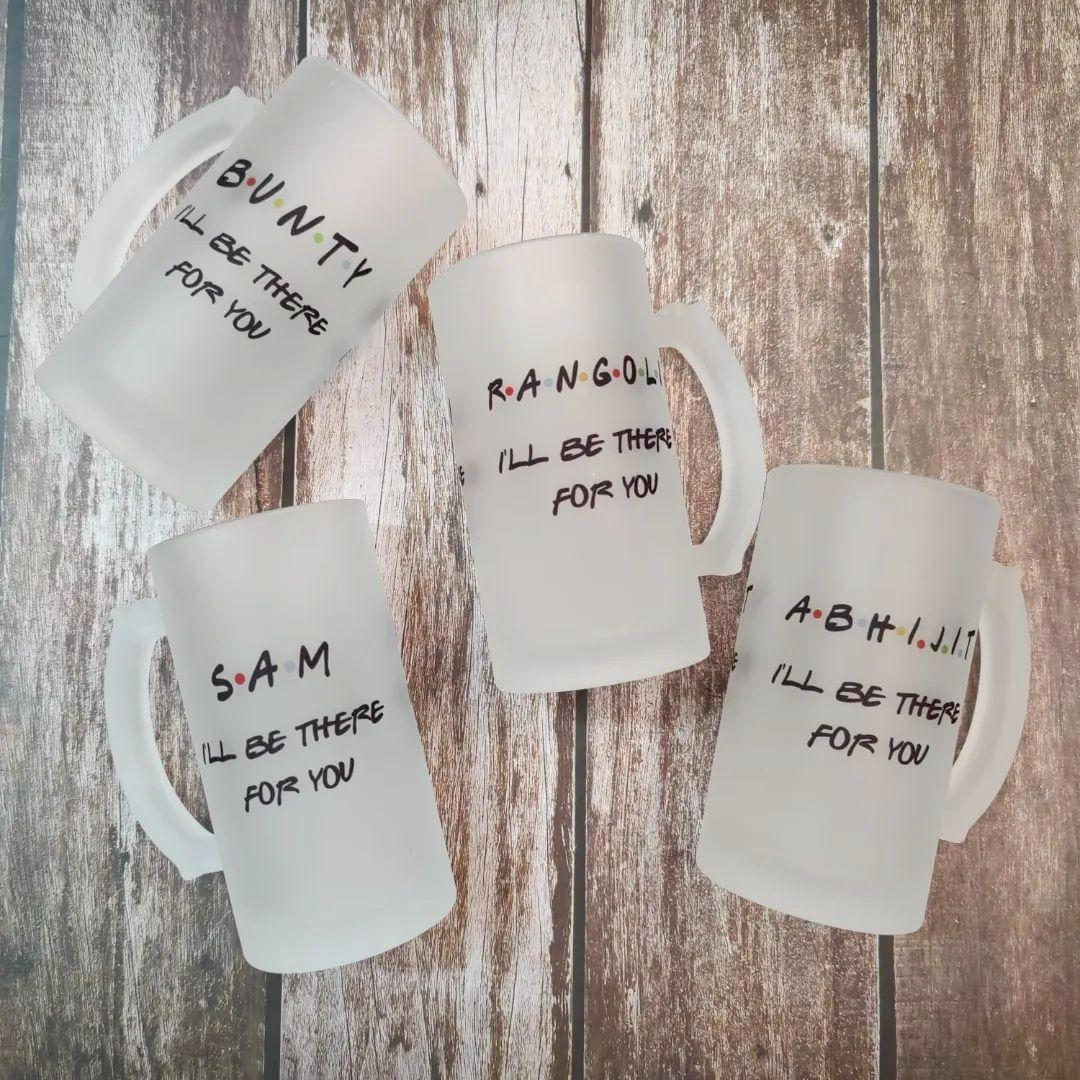glass-mug: (28, 46, 481, 519), (89, 494, 473, 977), (695, 458, 1038, 944), (422, 231, 773, 689)
